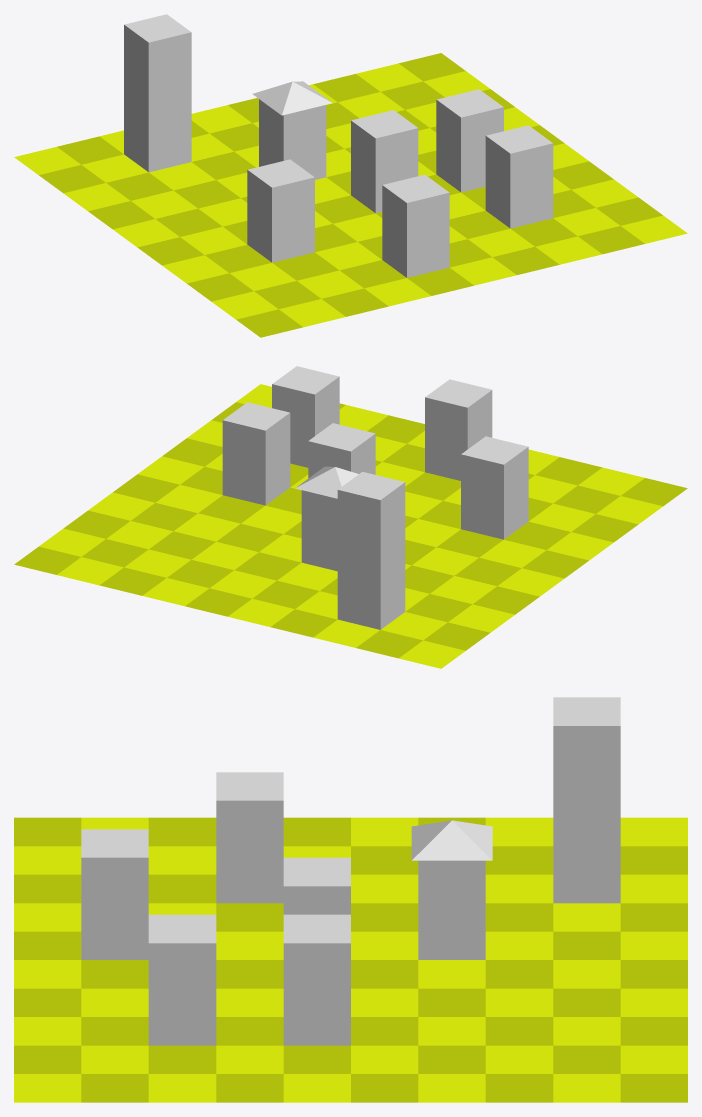
File: map.gltf
The picture shows the model from 3 angles, top to bottom: view 1: azimuth 30°, elevation 25°; view 2: azimuth 150°, elevation 25°; view 3: azimuth 270°, elevation 25°; orthographic projection. The views are drawn at different scales.
Visible parts, largest first — view 1: Grid.001, Grid.007, Grid.002, Grid.003, Grid, Grid.006, Grid.005, Grid.004; view 2: Grid.001, Grid.007, Grid.005, Grid.003, Grid, Grid.002, Grid.006, Grid.004; view 3: Grid.001, Grid.007, Grid.006, Grid.002, Grid.003, Grid.005, Grid, Grid.004.
Boxes of the visible parts, box(x1,y1,x2,y2) form: Grid.001: box(14, 53, 687, 337); Grid.007: box(124, 14, 191, 172); Grid.002: box(485, 125, 553, 228); Grid.003: box(247, 159, 314, 262); Grid: box(382, 174, 449, 277); Grid.006: box(252, 81, 332, 179); Grid.005: box(436, 89, 503, 192); Grid.004: box(351, 110, 418, 213); Grid.001: box(14, 384, 687, 668); Grid.007: box(337, 471, 405, 629); Grid.005: box(222, 402, 290, 505); Grid.003: box(461, 436, 528, 539); Grid: box(425, 379, 492, 480); Grid.002: box(272, 366, 339, 467); Grid.006: box(295, 466, 358, 571); Grid.004: box(308, 423, 375, 478); Grid.001: box(14, 817, 687, 1102); Grid.007: box(553, 697, 620, 903); Grid.006: box(411, 820, 492, 959); Grid.002: box(148, 914, 216, 1045); Grid.003: box(216, 772, 283, 903); Grid.005: box(283, 914, 350, 1045); Grid: box(81, 829, 148, 959); Grid.004: box(283, 857, 350, 914).
Size of the model in its own units: 10 by 2.9 by 10.
